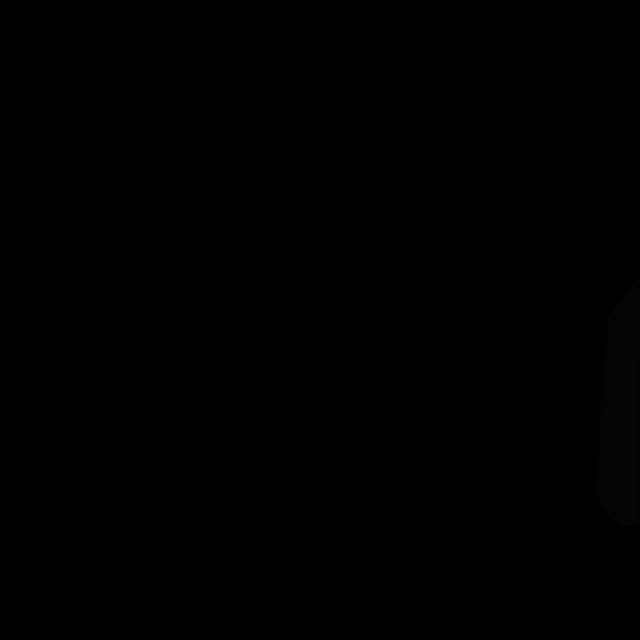soft_plastic: (596, 276, 640, 527)
